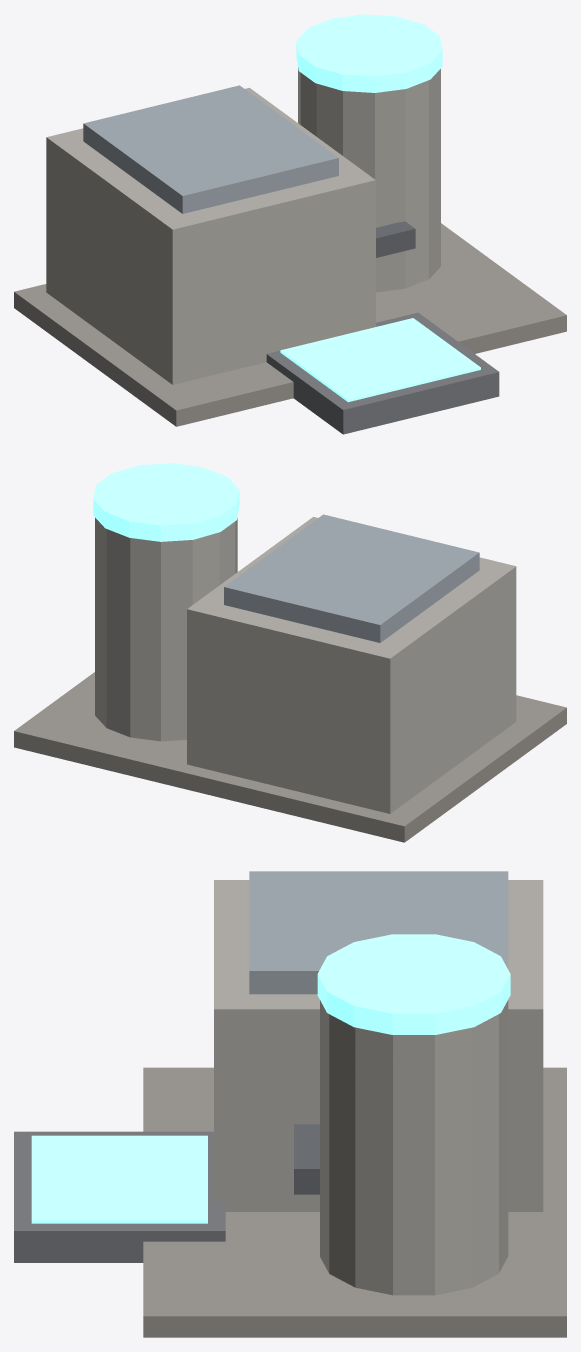
The model's file is Bldg_Refinery.fbx.
3 views of the same model, one above another, from view 1: azimuth 30°, elevation 25°; view 2: azimuth 150°, elevation 25°; view 3: azimuth 270°, elevation 25° (orthographic). The views are drawn at different scales.
Parts seen in each view (by area): view 1: Body.005; view 2: Body.005; view 3: Body.005.
Part boxes in pixels (x1,y1,x2,y2): Body.005: (14, 14, 566, 434); Body.005: (14, 463, 566, 842); Body.005: (14, 871, 566, 1337).
Bounding box in the file's own units: 5 × 2.85 × 4.7.
